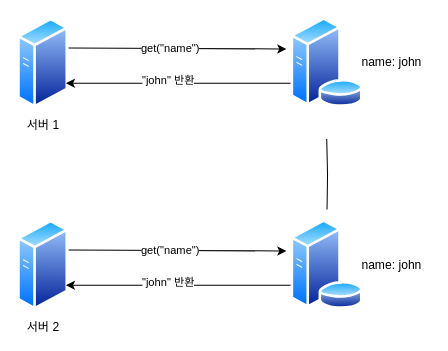
This 448x351 diagram has some shape labels left out. Here are the shapes that lost their labels. From the top down, the centre of each, then its label:
At (x=326, y=62): "n1".
At (x=326, y=264): "n2".
